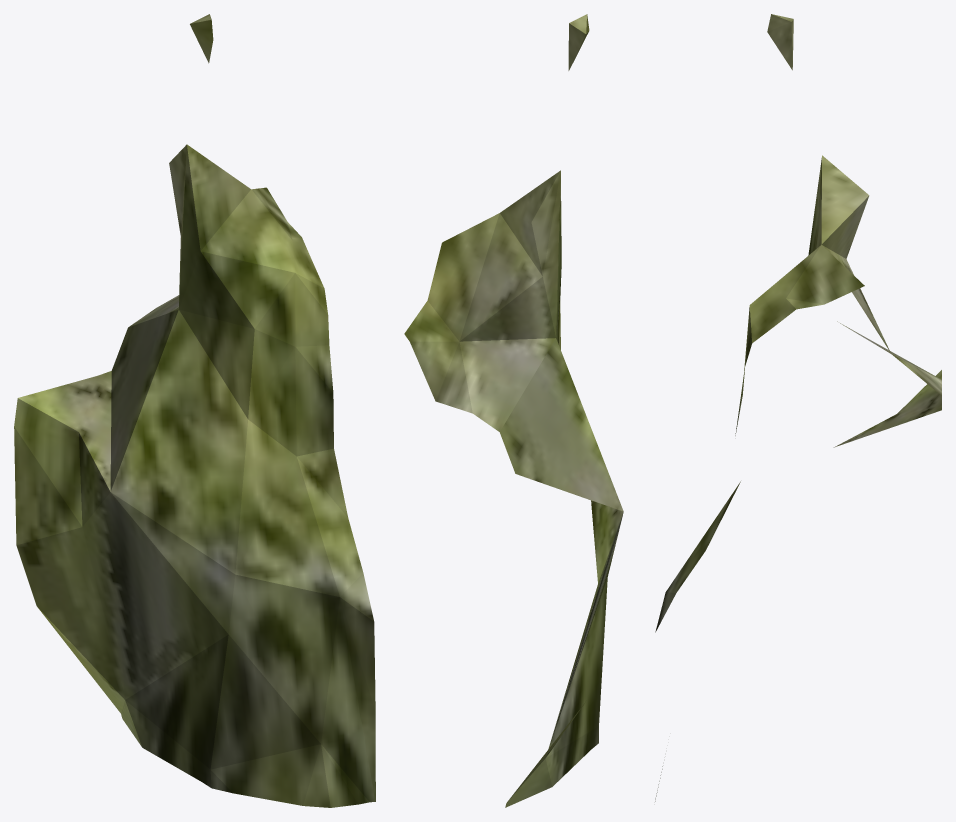
The picture shows the model from 3 angles, left to right: view 1: azimuth 30°, elevation 25°; view 2: azimuth 150°, elevation 25°; view 3: azimuth 270°, elevation 25°; orthographic projection. The views are drawn at different scales.
Bounding box in the file's own units: 0.5299 × 1.81 × 0.6383.
Materials: 1 (1 with a texture image).
